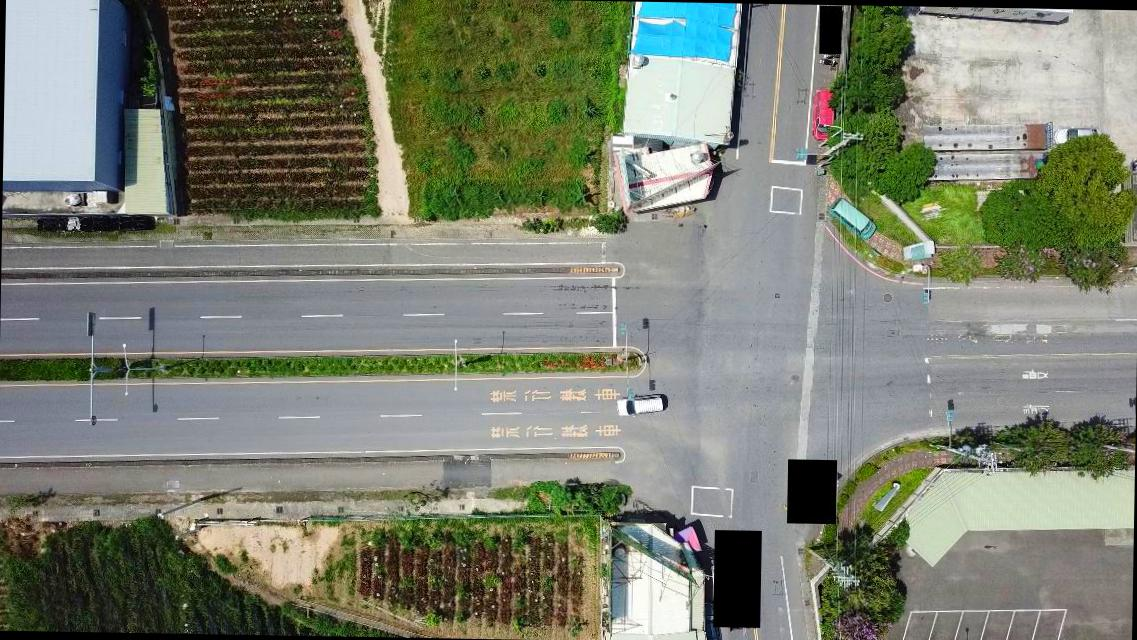vehicle: (828, 198, 881, 242), (614, 392, 670, 420), (808, 88, 836, 142), (1052, 126, 1100, 148), (701, 599, 725, 639)
